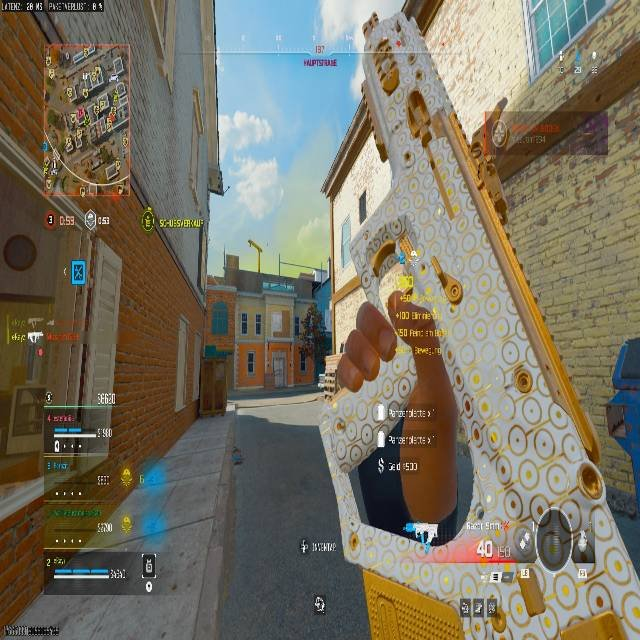head: (606, 323, 639, 498)
